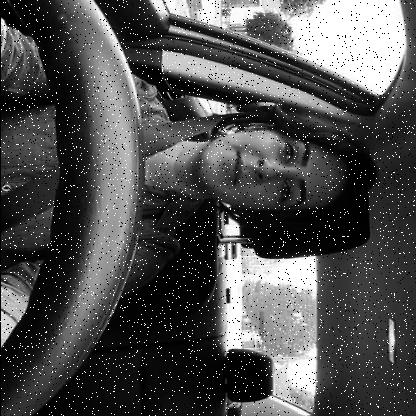seatbelt: (0, 97, 382, 250)
